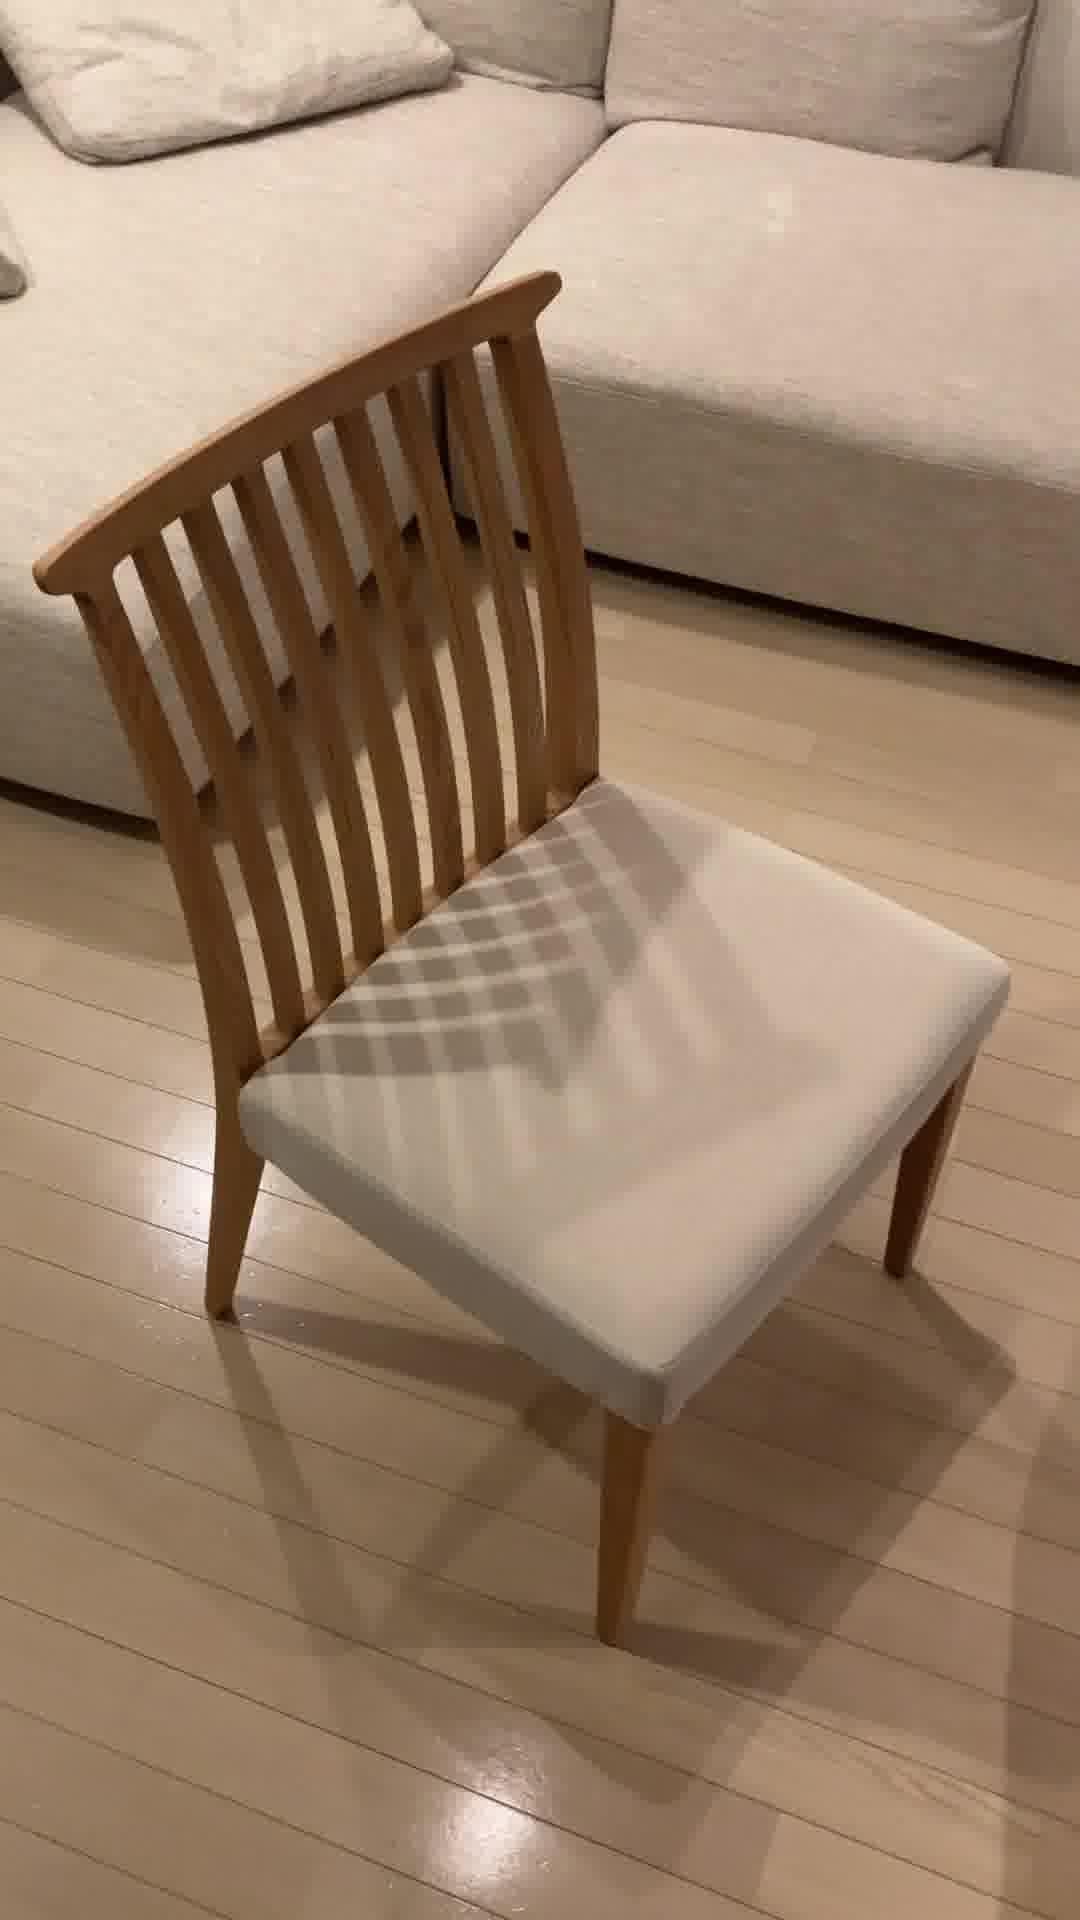takumikan-chair: (33, 266, 1013, 1643)
